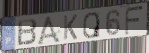6: (105, 9, 121, 38)
A: (35, 15, 62, 45)
B: (17, 18, 38, 47)
F: (124, 6, 145, 37)
K: (62, 14, 78, 42)
Q: (82, 12, 101, 40)
